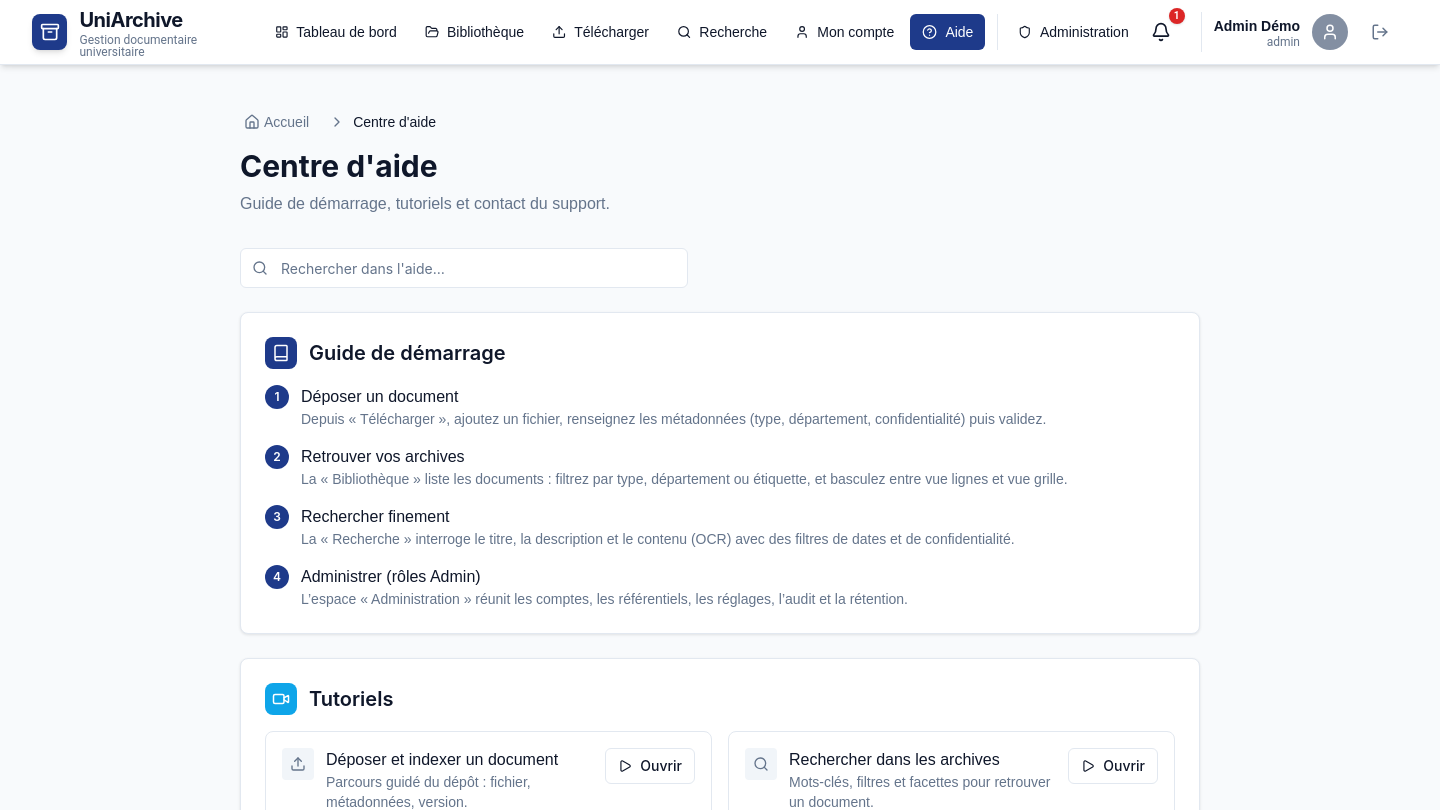
Test: centre d'aide (page /help) › filtre le guide et les tutoriels (insensible aux accents)
This screenshot has width=1440, height=810.
Type "bibliotheque" into the search field named "Rechercher dans le centre d'aide".
click(464, 268); type("bibliotheque")  # box [240,248,688,288]
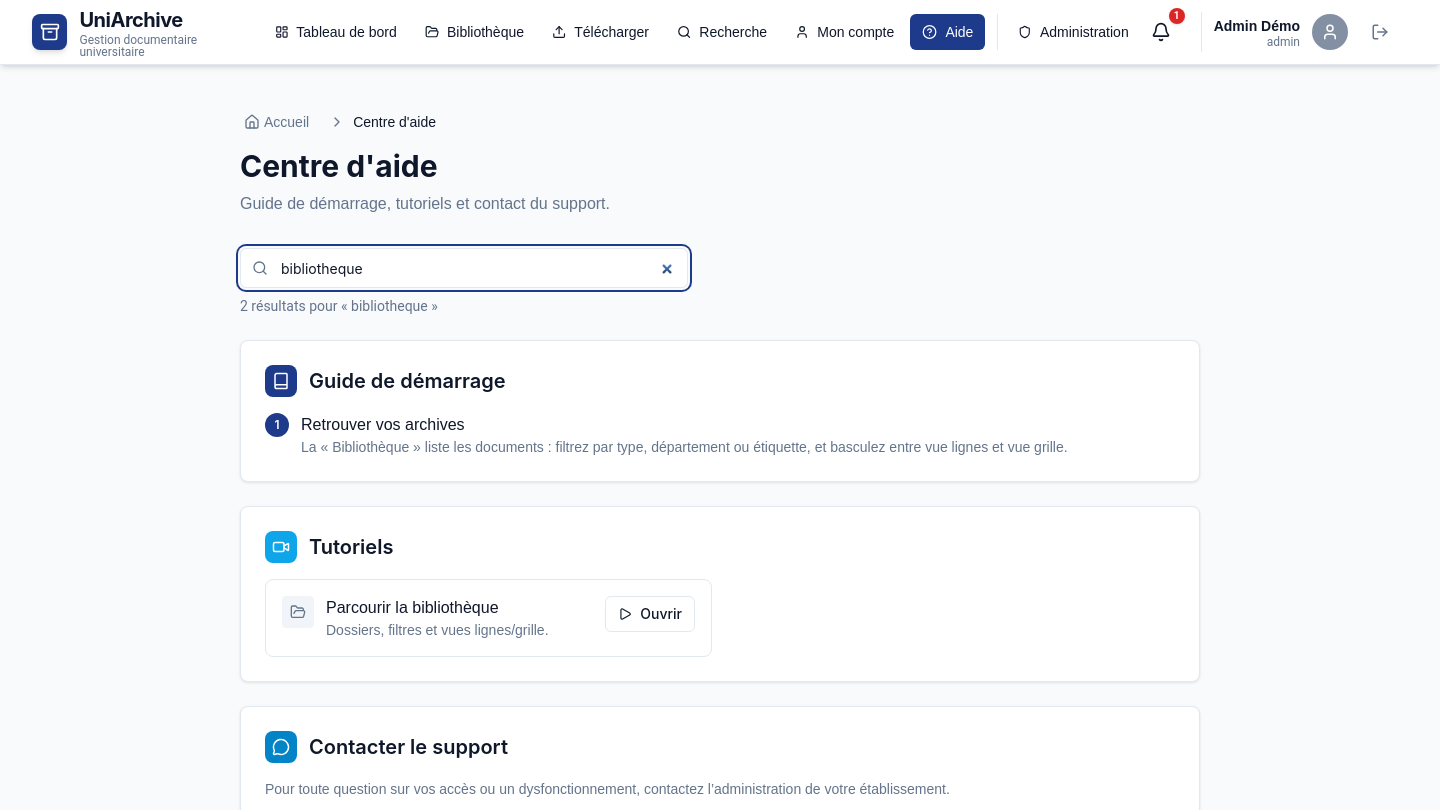
Expected: the text "Parcourir la bibliothèque" is shown, [326,599,498,616]
Now the text "Déposer et indexer un document" is gone
Now the text "2 résultats pour « bibliotheque »" is shown, box [240,298,438,314]
